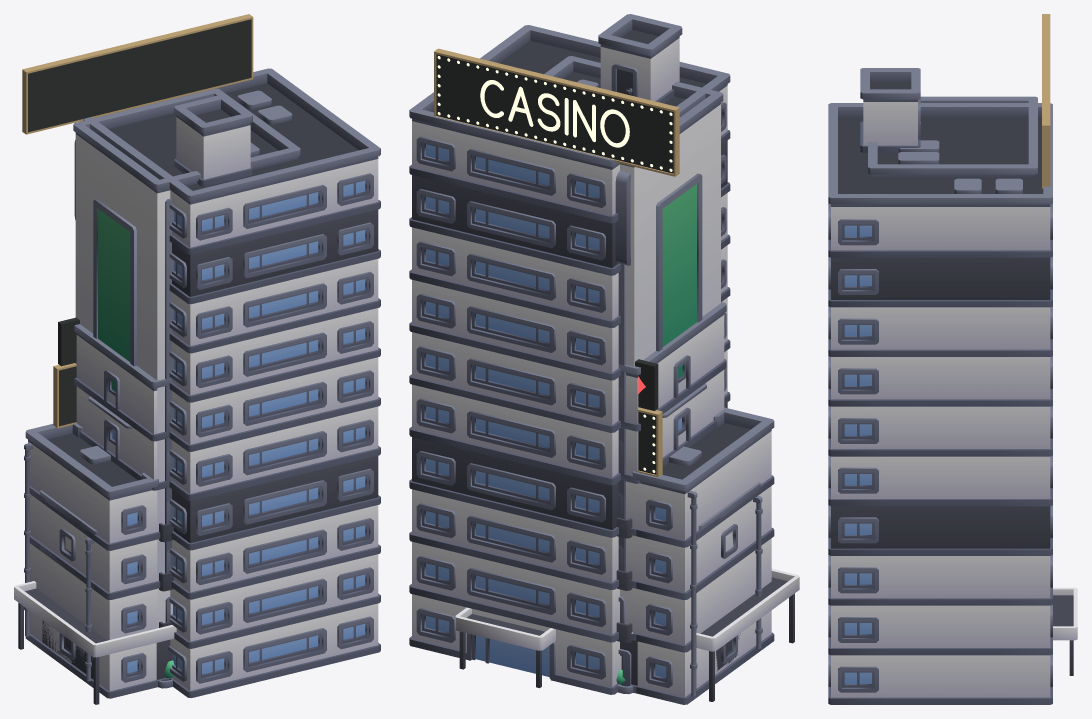
The model's file is vegas_strip.glb.
3 renders of one model, left to right at view 1: azimuth 30°, elevation 25°; view 2: azimuth 150°, elevation 25°; view 3: azimuth 270°, elevation 25°, orthographic. The views are drawn at different scales.
Visible parts, largest first — view 1: building_n_dollar_tall, building-skyscraper-e, building-j, vegas_sign_casino, building-m, building-k, vegas_sign_poker; view 2: building_n_dollar_tall, building-j, building-skyscraper-e, vegas_sign_casino, building-m, building-k, vegas_sign_poker; view 3: building_n_dollar_tall, building-skyscraper-e, vegas_sign_casino.
Part boxes in pixels (box(x1,y1,x2,y2)): building_n_dollar_tall: box(14, 68, 380, 704); building-skyscraper-e: box(73, 88, 300, 680); building-j: box(24, 423, 174, 698); vegas_sign_casino: box(22, 14, 253, 134); building-m: box(74, 324, 171, 680); building-k: box(40, 490, 97, 687); vegas_sign_poker: box(53, 317, 79, 428); building_n_dollar_tall: box(409, 14, 799, 701); building-j: box(616, 407, 774, 704); building-skyscraper-e: box(544, 56, 723, 686); vegas_sign_casino: box(434, 48, 679, 176); building-m: box(618, 302, 726, 693); building-k: box(698, 482, 762, 676); vegas_sign_poker: box(635, 359, 662, 477); building_n_dollar_tall: box(828, 68, 1077, 704); building-skyscraper-e: box(868, 96, 1037, 177); vegas_sign_casino: box(1042, 14, 1050, 188).
Size of the model in its own units: 2.32 by 4.57 by 1.82.
4 materials, 4 textured.
